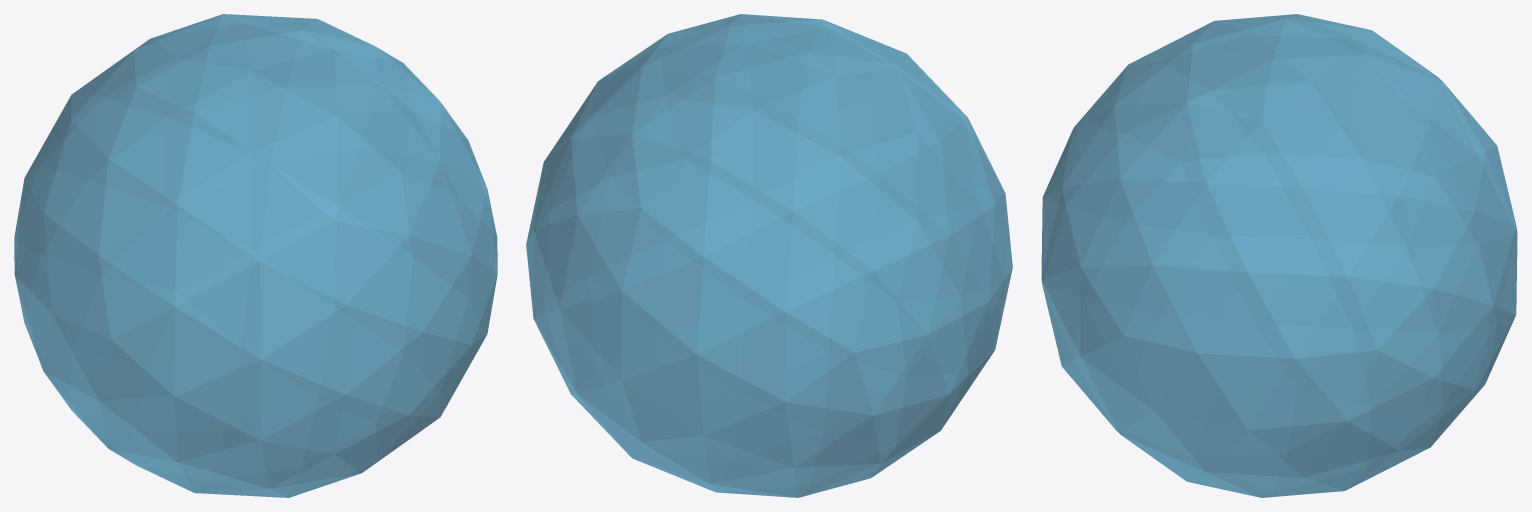
File: sphereonly.gltf
3 renders of one model, left to right at view 1: azimuth 30°, elevation 25°; view 2: azimuth 150°, elevation 25°; view 3: azimuth 270°, elevation 25°, orthographic.
Visible parts, largest first — view 1: Sphere; view 2: Sphere; view 3: Sphere.
Part boxes in pixels (box(x1,y1,x2,y2)): Sphere: box(14, 14, 497, 497); Sphere: box(526, 14, 1012, 497); Sphere: box(1041, 14, 1517, 497).
Bounding box in the file's own units: 3.28 × 3.22 × 3.2.
